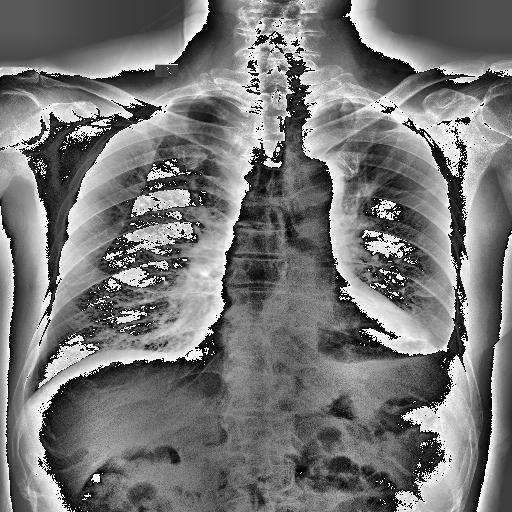0- Aortic enlargement: (282, 154, 346, 222), (282, 156, 346, 206)
10- Pleural effusion: (396, 314, 464, 382), (390, 321, 472, 375), (428, 325, 464, 377)
13- Pulmonary fibrosis: (392, 186, 446, 210), (394, 184, 441, 195)
3- Cardiomegaly: (184, 302, 434, 369)
